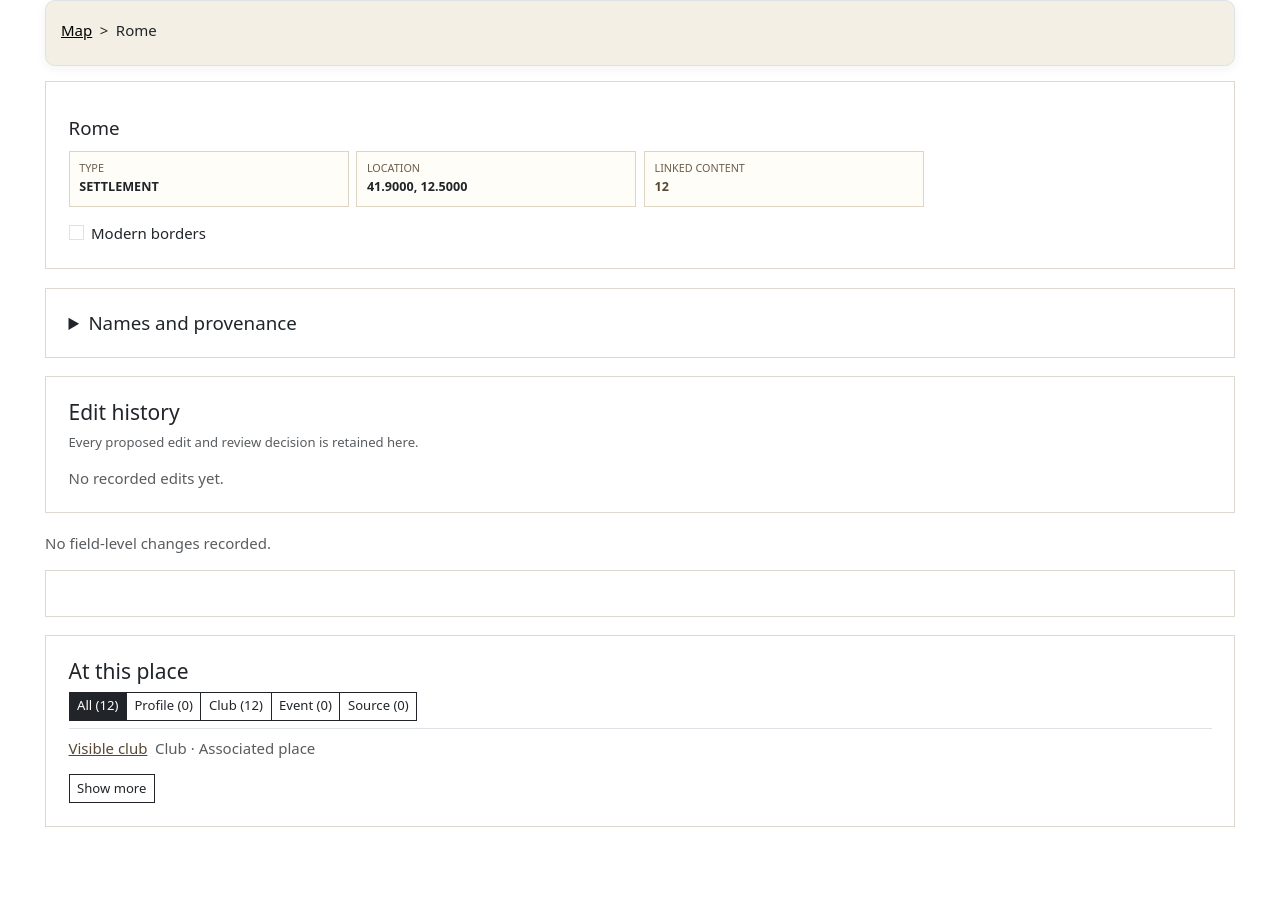
Test: renders content while counts load and retains those counts during pagination
The image size is (1280, 900).
Expected: the link "Visible club" is shown, [68,738,148,758]
Expected: the button "All (12)" is shown, [68,692,127,721]
Click the button "Show more".
click(112, 789)  # box [68,774,155,803]
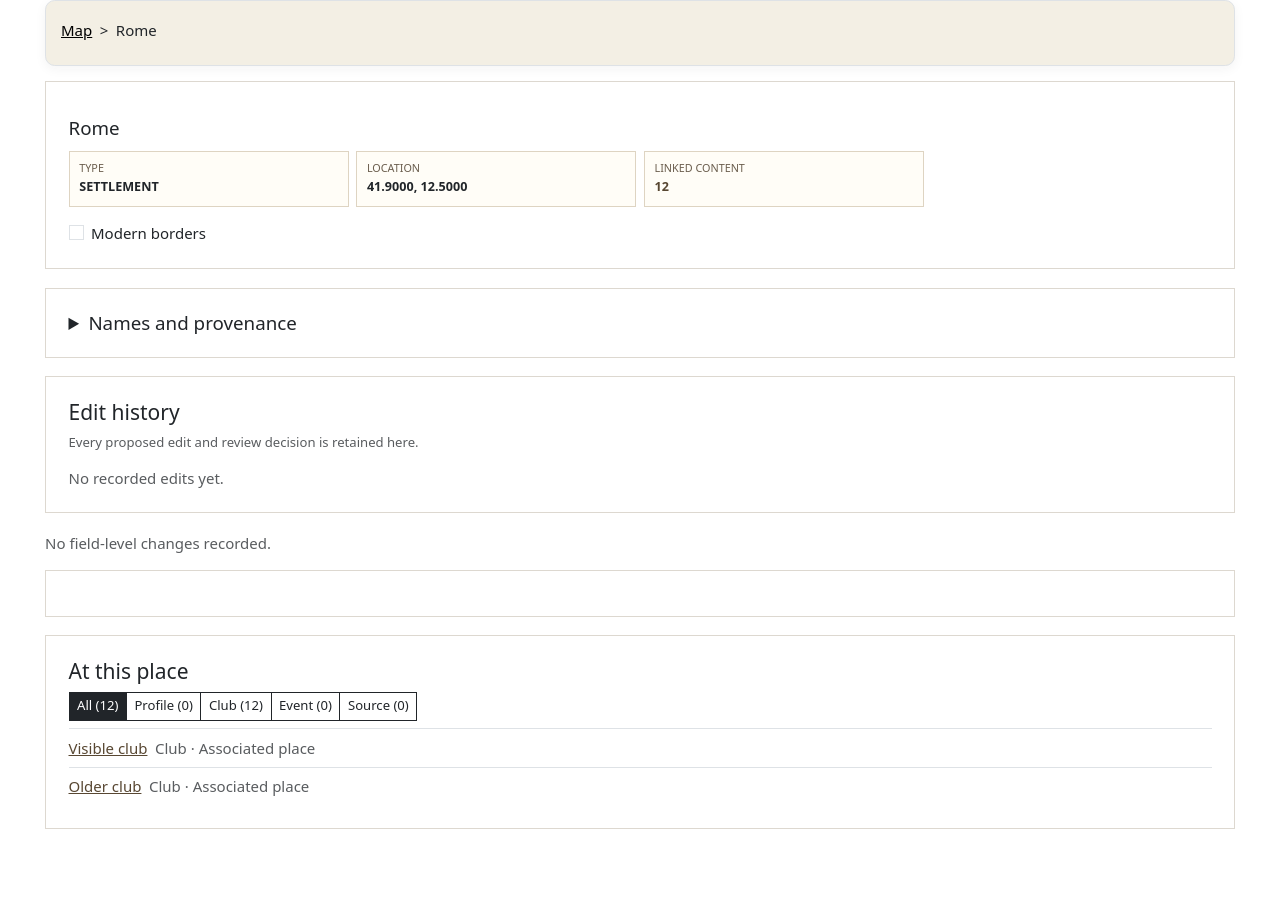
Expected: the button "All (12)" is shown, [68,692,127,721]
Expected: the link "Older club" is shown, [68,776,141,796]
